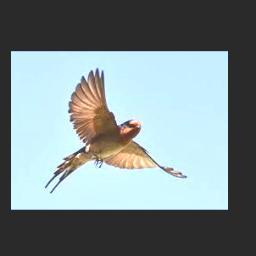Swallow: (45, 68, 188, 194)
